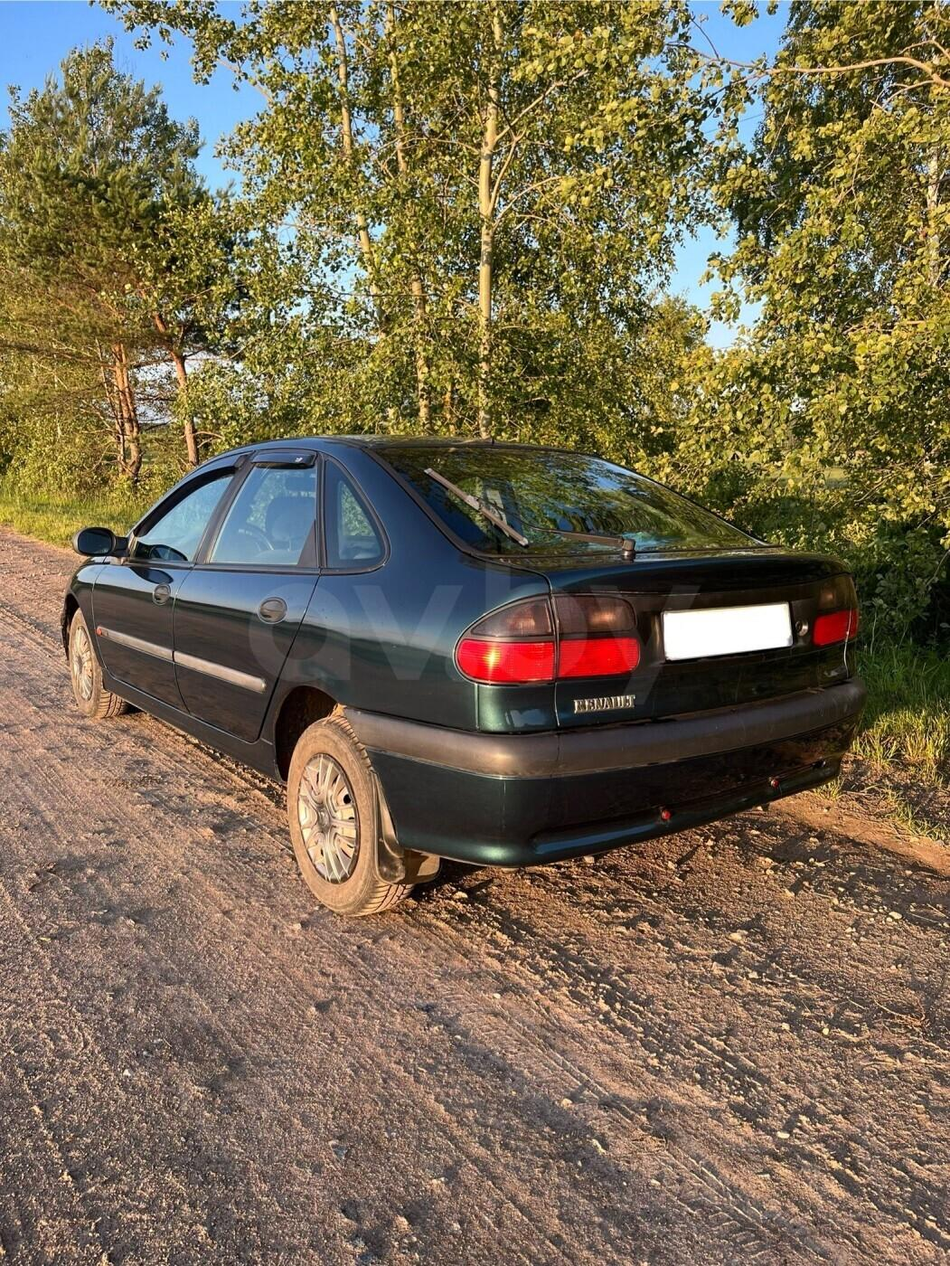Lahuna_1993-1999: (58, 425, 864, 924)
